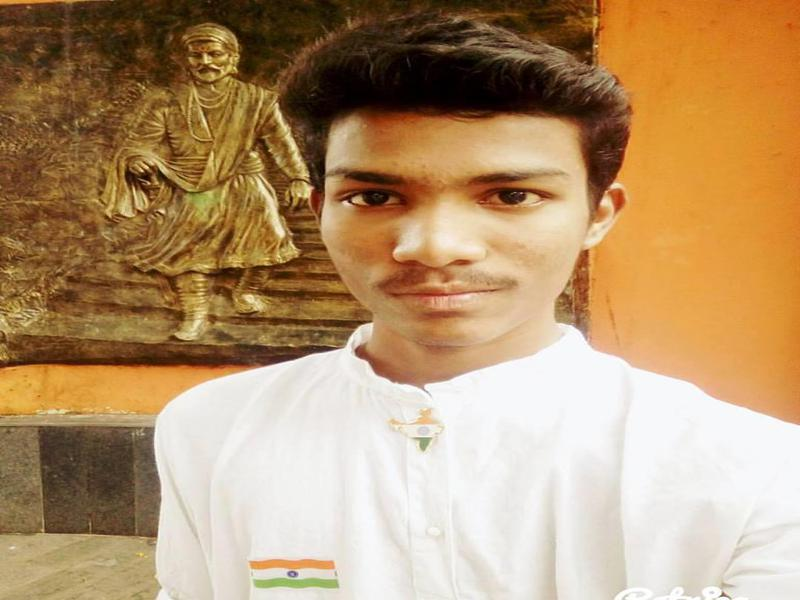without_mask: (321, 121, 585, 353)
